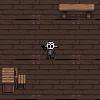Jason: (40, 40, 59, 59)
Obstacle: (0, 66, 28, 94), (57, 2, 96, 19)
